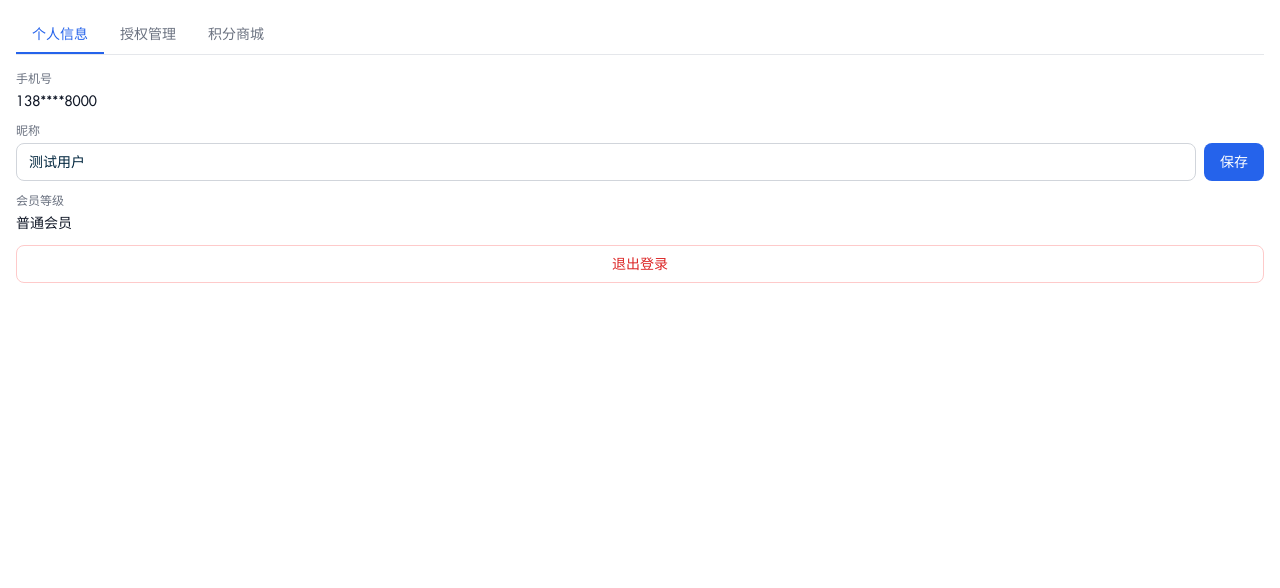
Test: EmbedAccountPage postMessage 协议 › 切换到积分商城 tab 渲染共享面板 PointsMallPanel
Expected: the text "138****8000" is shown, [16,92,97,110]
Click the button "积分商城": point(236, 35) [192,16,280,54]
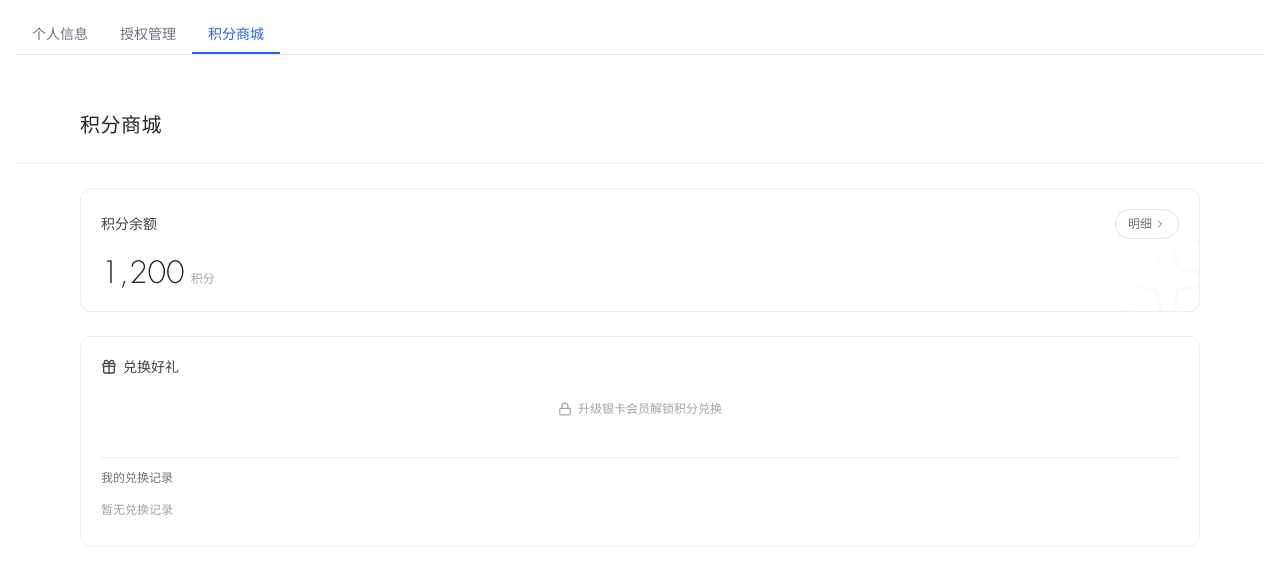
Expected: the element with test id "panel-mall" is shown
Expected: the heading "积分余额" is shown, [101,214,157,234]
Expected: the text "升级银卡会员解锁积分兑换" is shown, [558,401,722,416]
